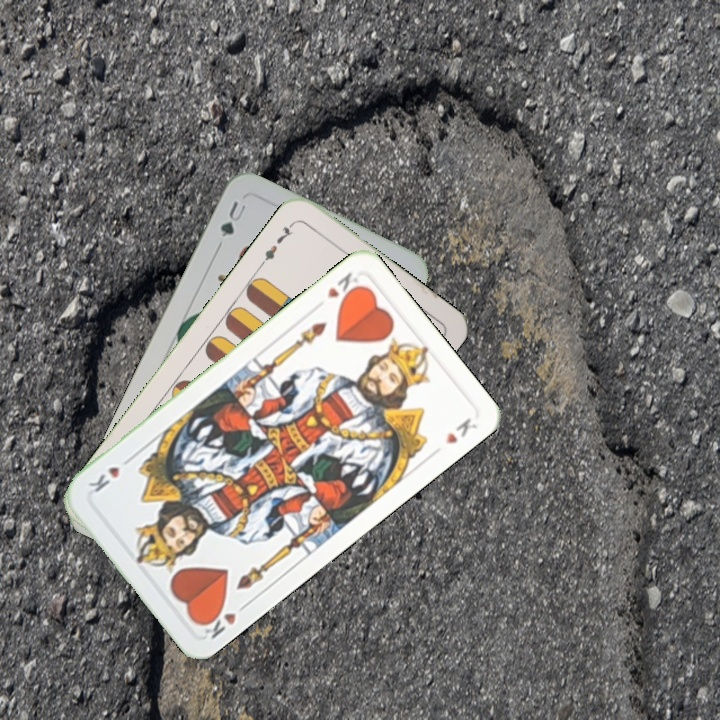E7: (257, 217, 298, 268)
GU: (216, 197, 249, 240)
HK: (196, 598, 252, 642), (323, 268, 366, 306)
